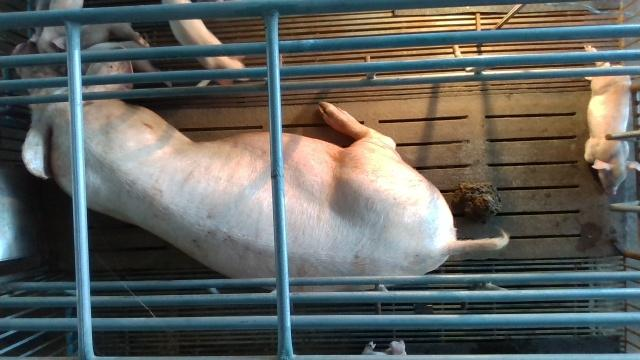piglet: (584, 45, 640, 195), (164, 0, 249, 87), (29, 0, 84, 53)
sow-sit: (12, 46, 510, 293)
